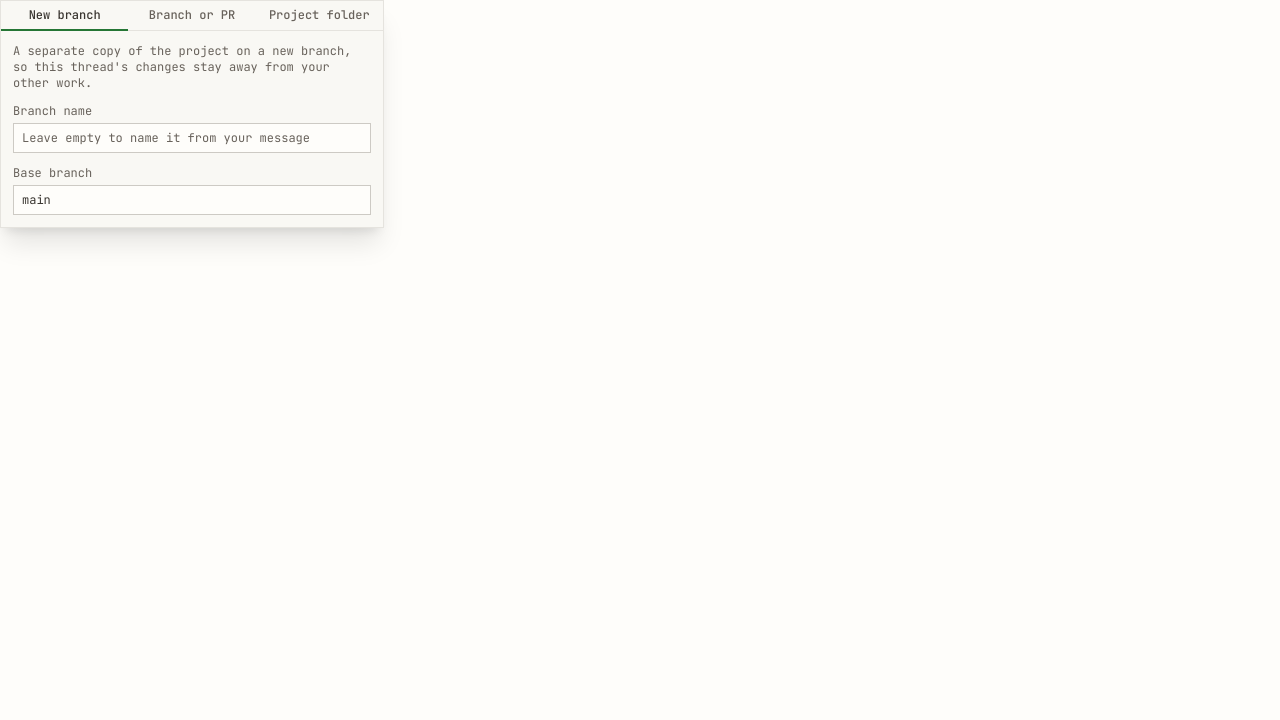
Scenario: DraftStartPicker › filters by search
The width and height of the screenshot is (1280, 720).
Click the button "Branch or PR": (192, 16) left=128, top=1, right=256, bottom=31
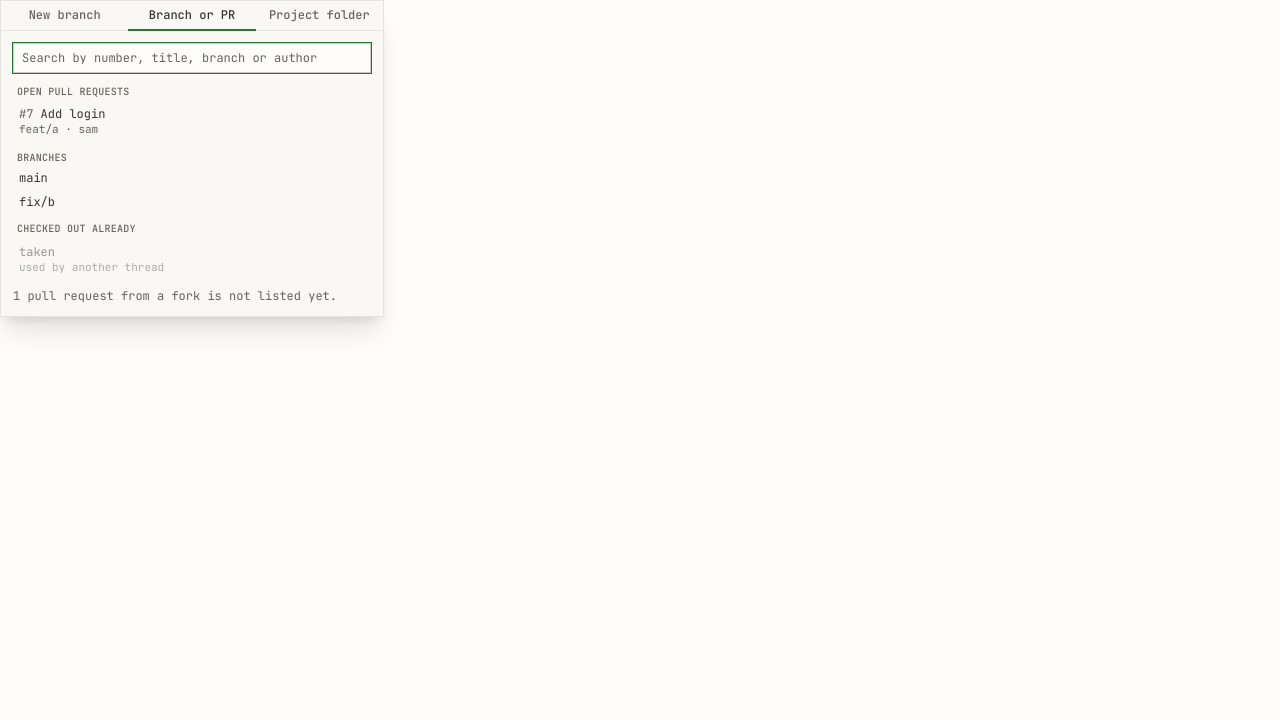
In the field named "Search pull requests and branches": (192, 58) left=13, top=43, right=371, bottom=73, type "fix"
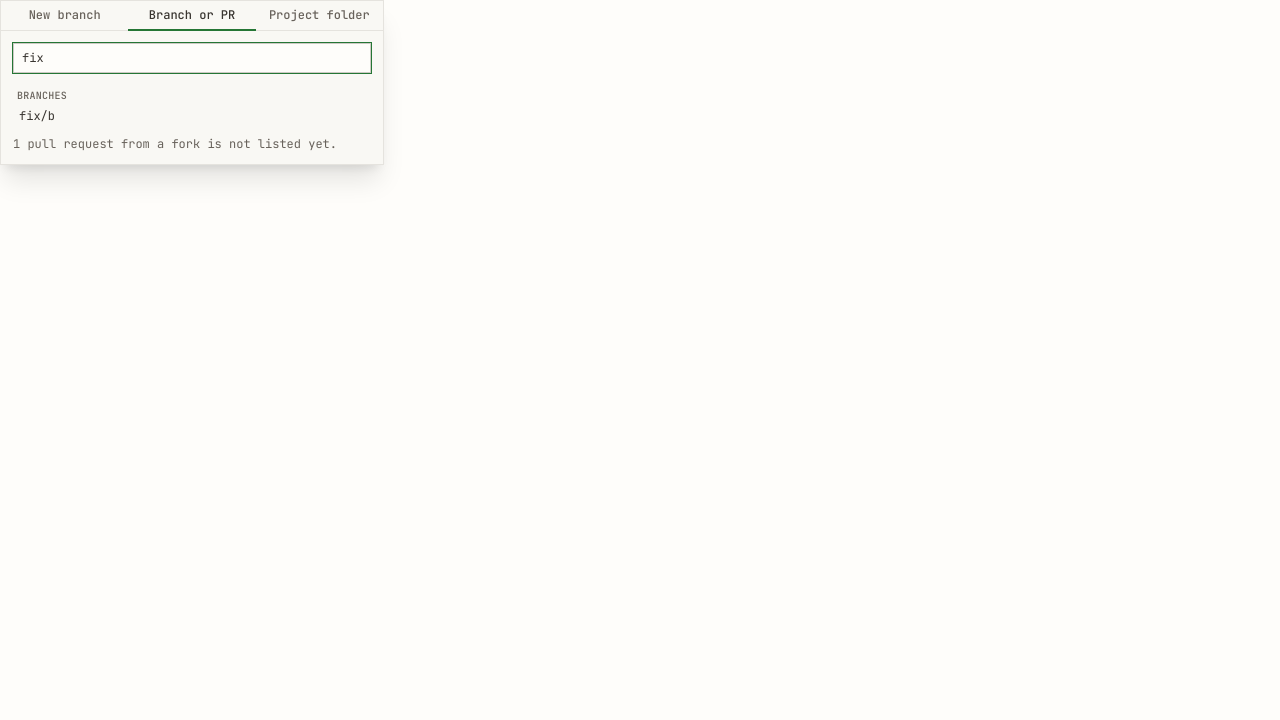
Result: the button "fix/b" is shown at left=9, top=104, right=375, bottom=128
Result: the button "#7 Add login" is gone
